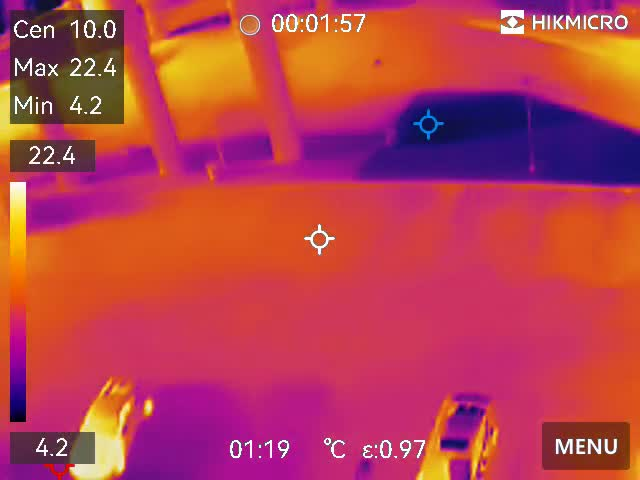smallCar: (415, 384, 502, 480)
